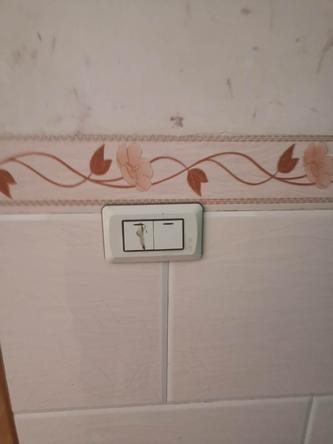switch: (153, 219, 186, 251), (126, 218, 153, 252)
